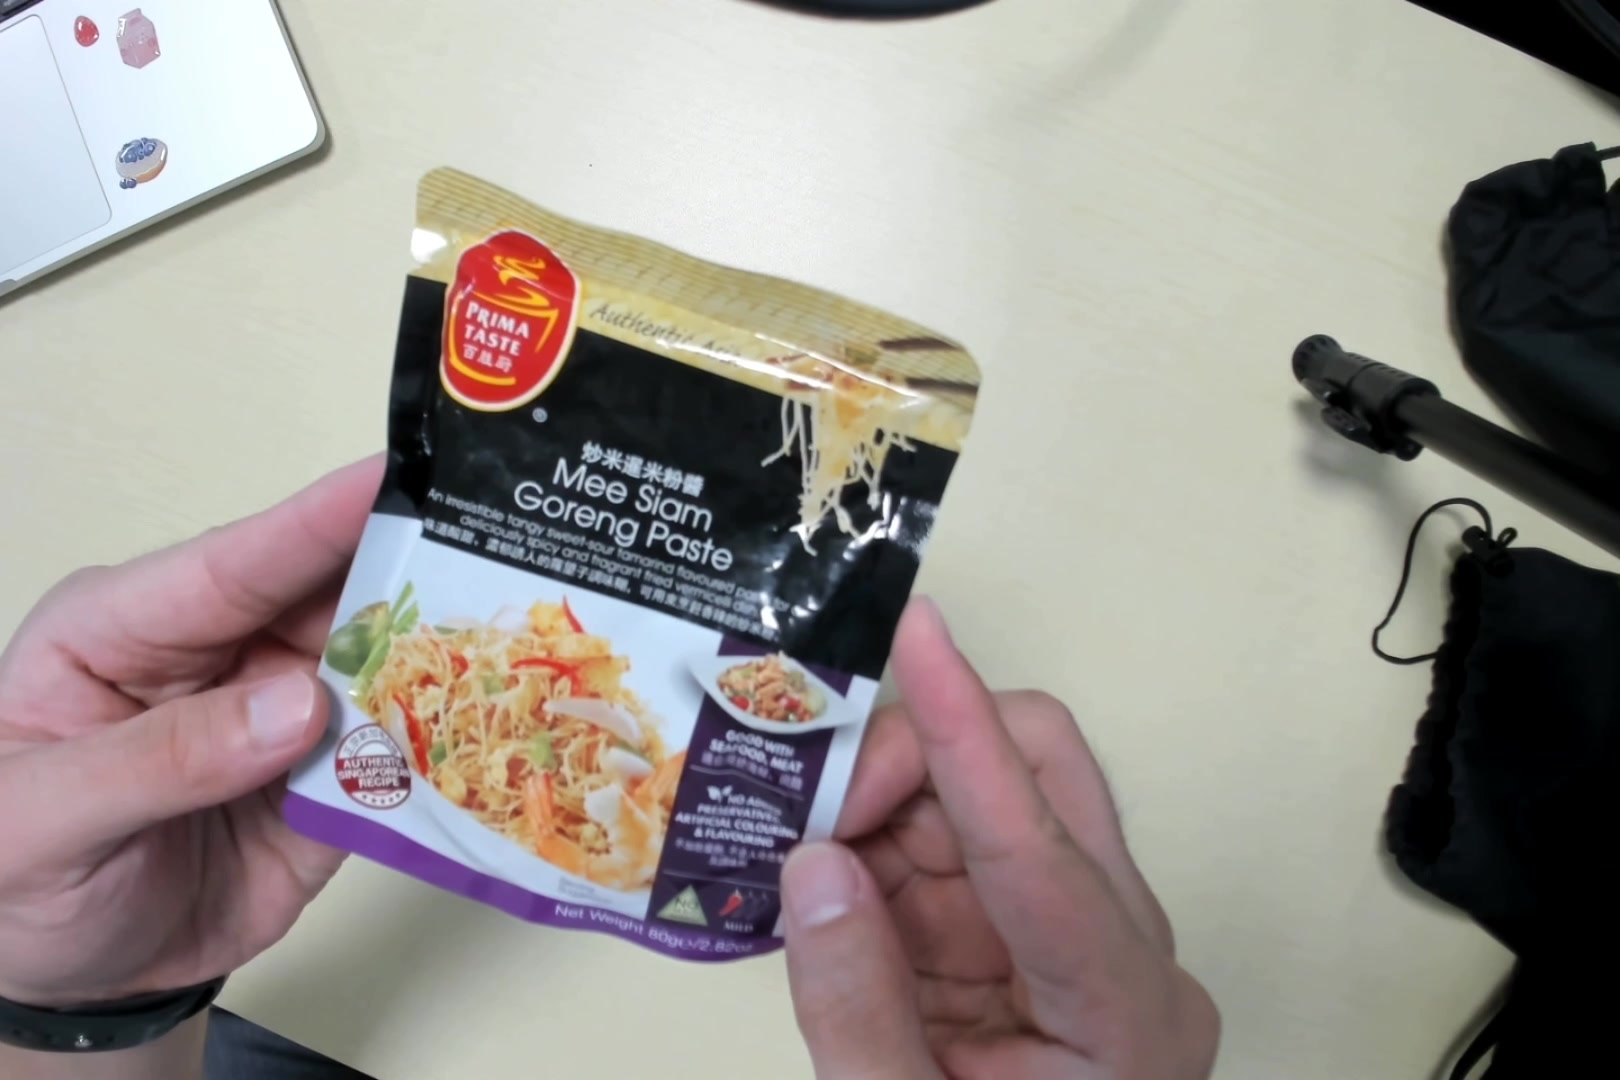CurryPastePowderSauce_0-99g_NonHalal_NonHealthy: (297, 209, 918, 955)
